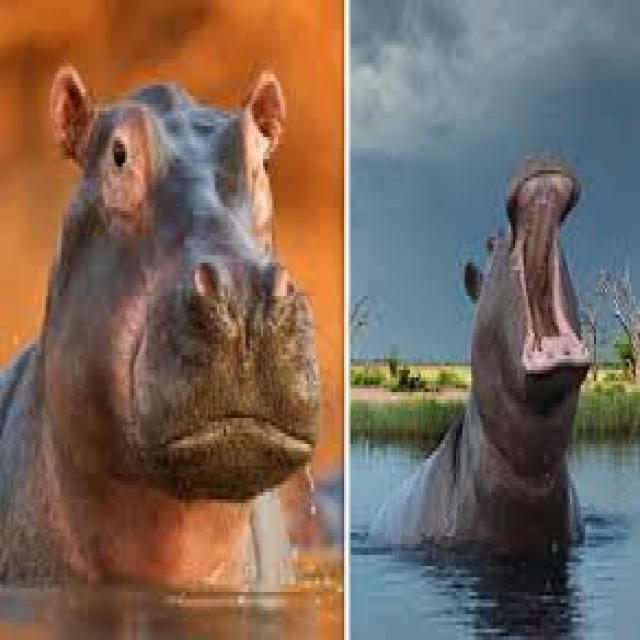Hippopotamus: (1, 55, 325, 569), (366, 151, 602, 554)
